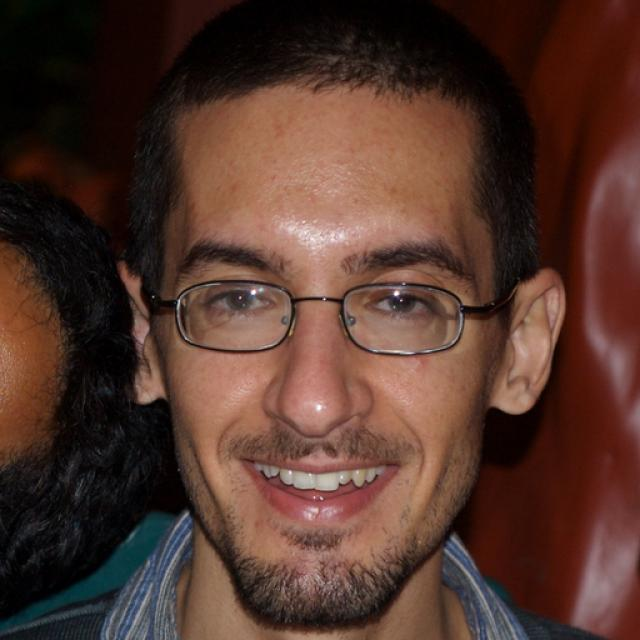Acne: (405, 355, 432, 379), (267, 168, 282, 190)
Spots: (393, 201, 418, 221), (385, 180, 401, 207)
